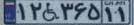character: (43, 1, 59, 24), (29, 1, 42, 24), (60, 1, 74, 22), (74, 1, 87, 22), (88, 1, 100, 23), (16, 1, 28, 22), (116, 5, 126, 23), (104, 6, 113, 23)
